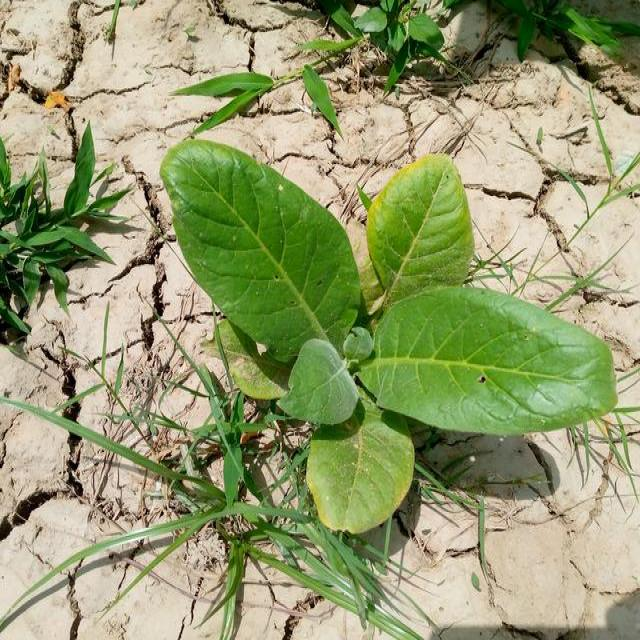crop: (166, 134, 618, 508)
